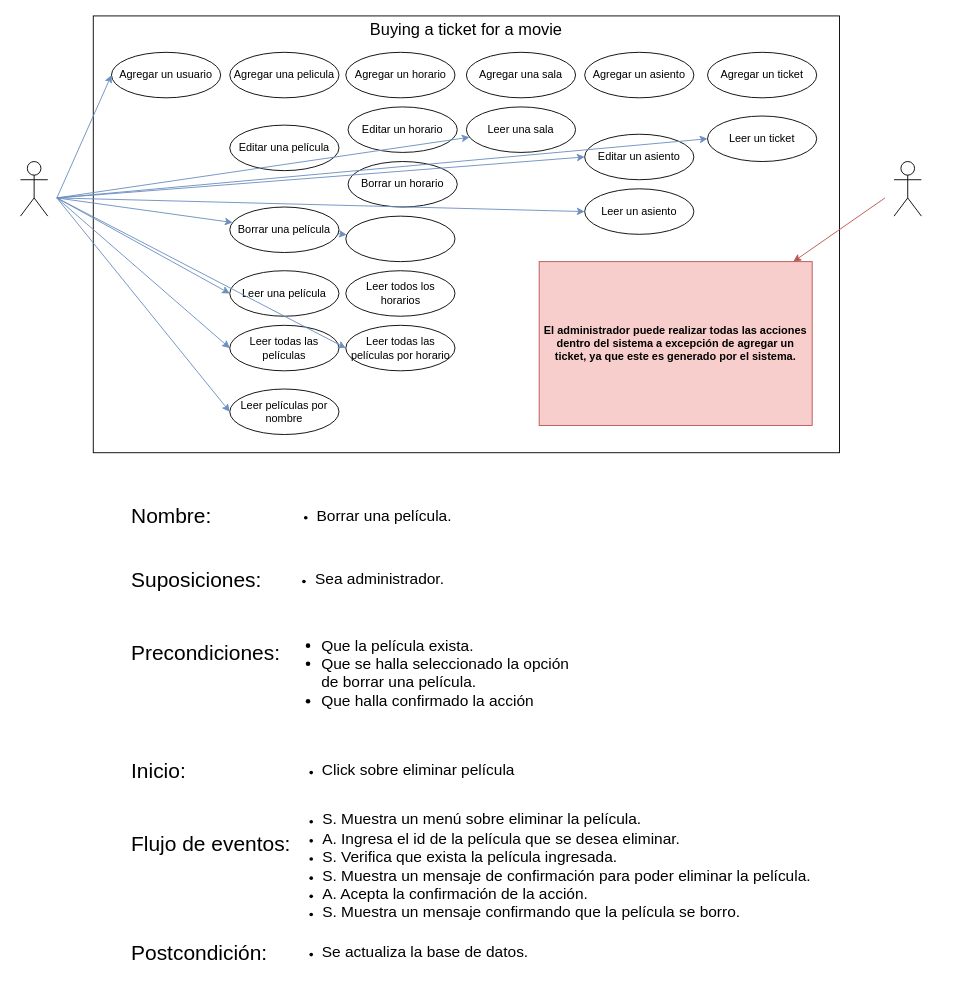
Some shapes in this 957 by 989 pixel diagram are drawn without their labels. The shapes that lost their labels are listed below. From the top down, each one's centre as x and y in pixels, then its label:
point (34, 188): Usuario
point (907, 188): Administrador
point (400, 238): Leer un horario
